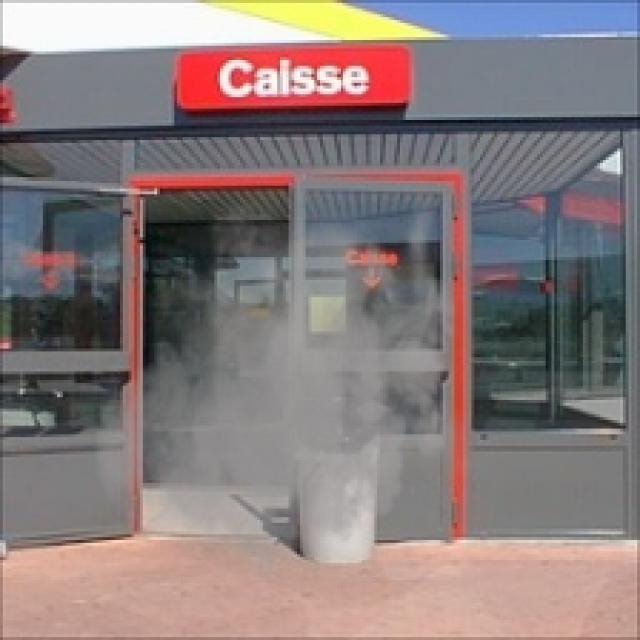smoke: (83, 180, 474, 594)
